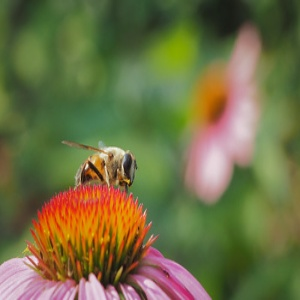bee: (62, 133, 140, 203)
